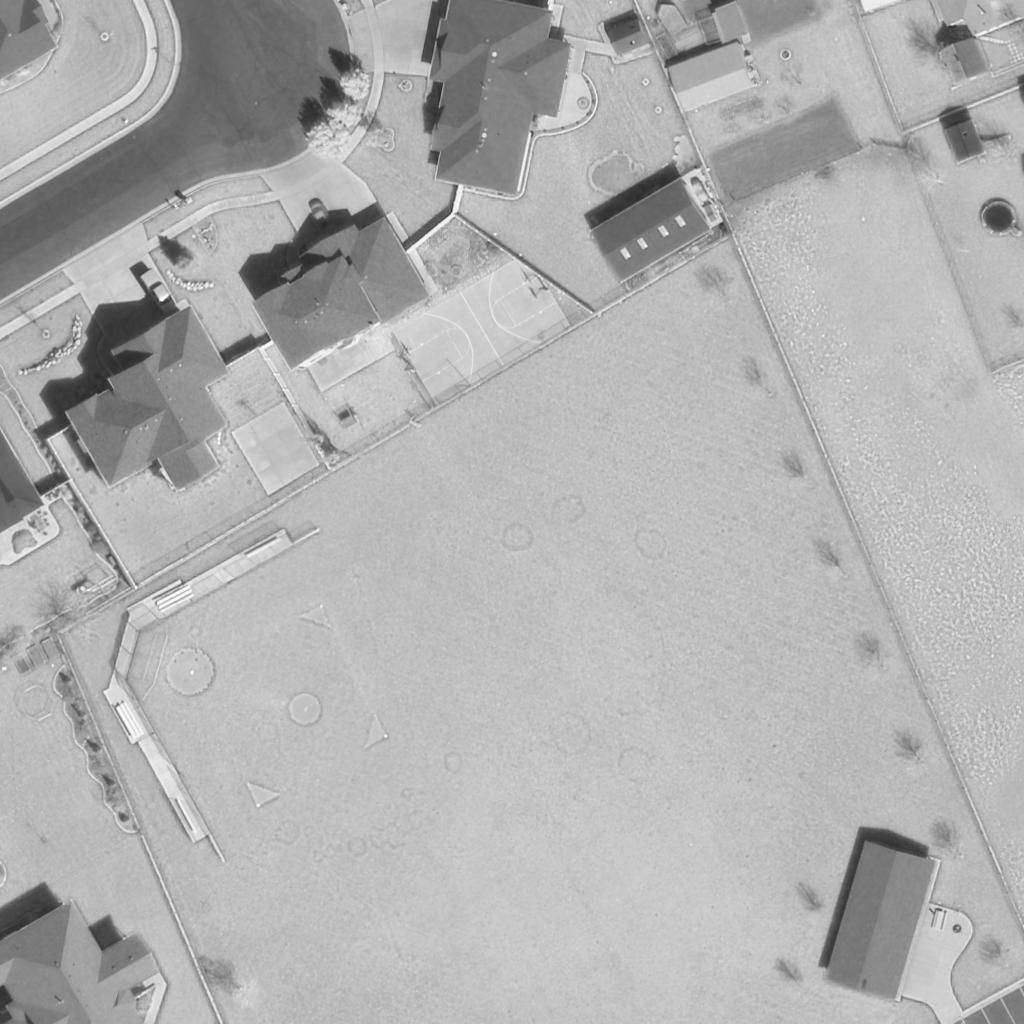vehicle: (139, 267, 179, 319), (308, 203, 342, 237)
